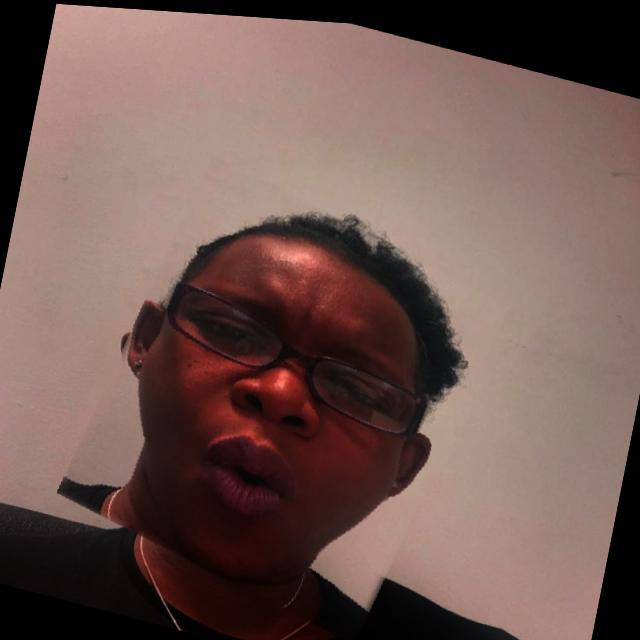sad: (65, 146, 502, 640)
